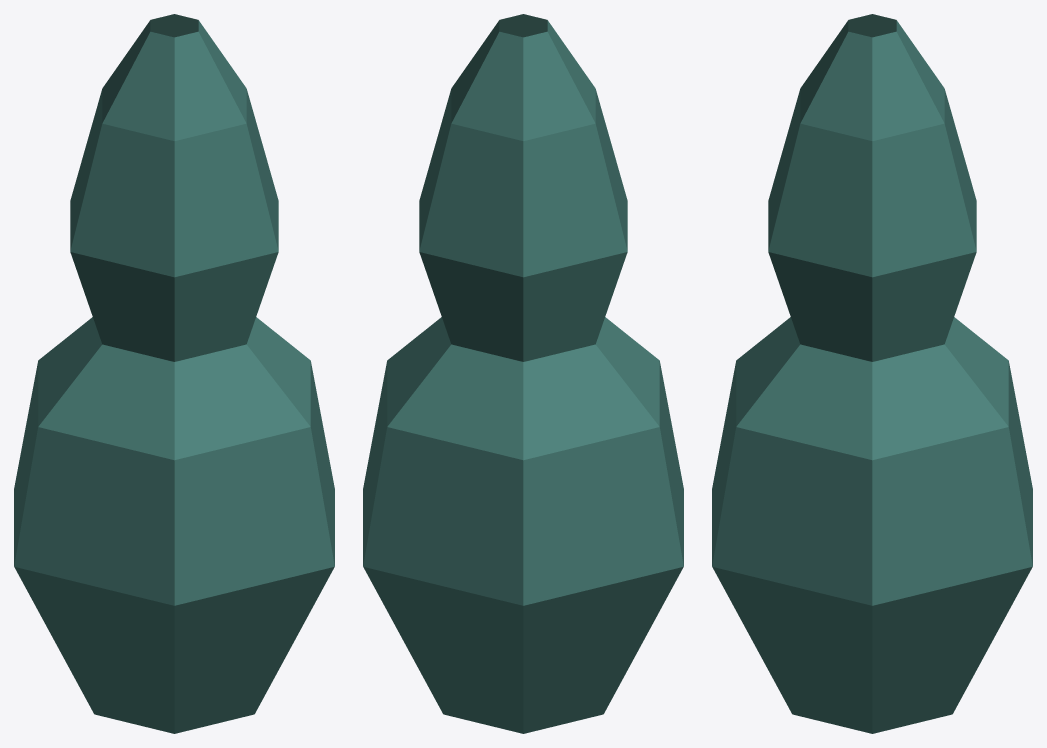
The model's file is vase-19.glb.
3 views of the same model, side by side, from view 1: azimuth 30°, elevation 25°; view 2: azimuth 150°, elevation 25°; view 3: azimuth 270°, elevation 25° (orthographic).
Parts seen in each view (by area): view 1: vase_19; view 2: vase_19; view 3: vase_19.
Part boxes in pixels (box(x1,y1,x2,y2)): vase_19: box(14, 14, 334, 733); vase_19: box(363, 14, 683, 733); vase_19: box(712, 14, 1032, 733).
Size of the model in its own units: 0.266 by 0.5304 by 0.2304.
